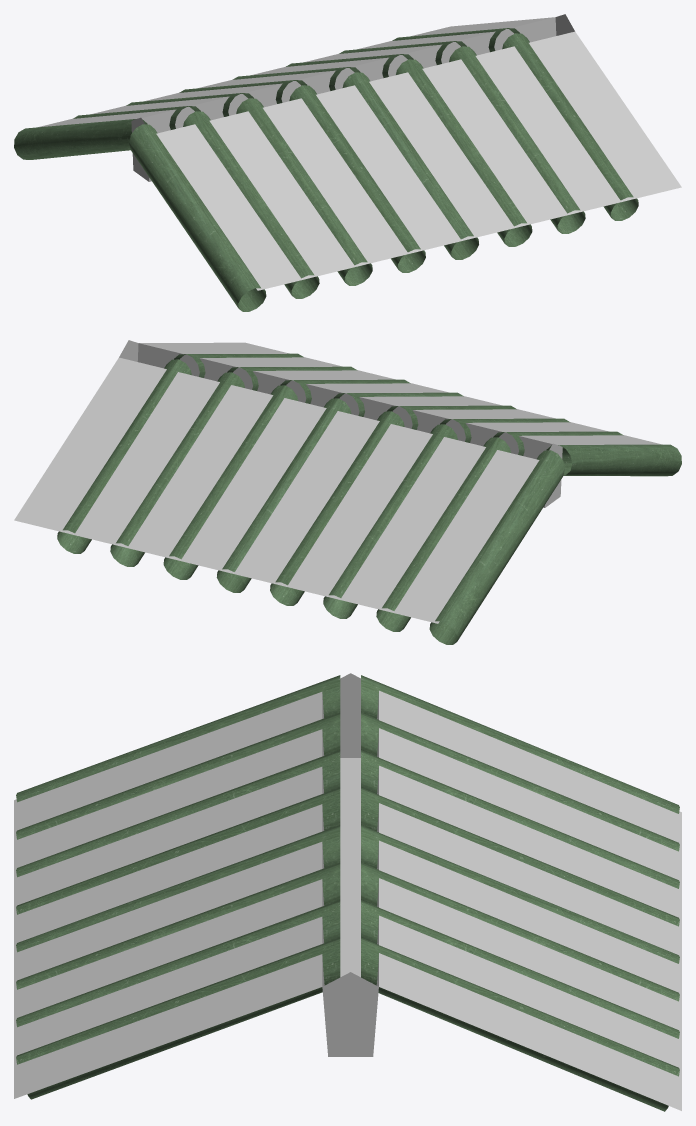
The model's file is SM_Giwa01B_b2.fbx.
3 views of the same model, one above another, from view 1: azimuth 30°, elevation 25°; view 2: azimuth 150°, elevation 25°; view 3: azimuth 270°, elevation 25° (orthographic). The views are drawn at different scales.
Visible parts, largest first — view 1: SM_Giwa01B_b2; view 2: SM_Giwa01B_b2; view 3: SM_Giwa01B_b2.
Boxes of the visible parts, left/top/right/bottom form: SM_Giwa01B_b2: left=14, top=14, right=681, bottom=311; SM_Giwa01B_b2: left=14, top=340, right=681, bottom=644; SM_Giwa01B_b2: left=14, top=673, right=681, bottom=1111.
Size of the model in its own units: 306 by 278 by 80.65.
